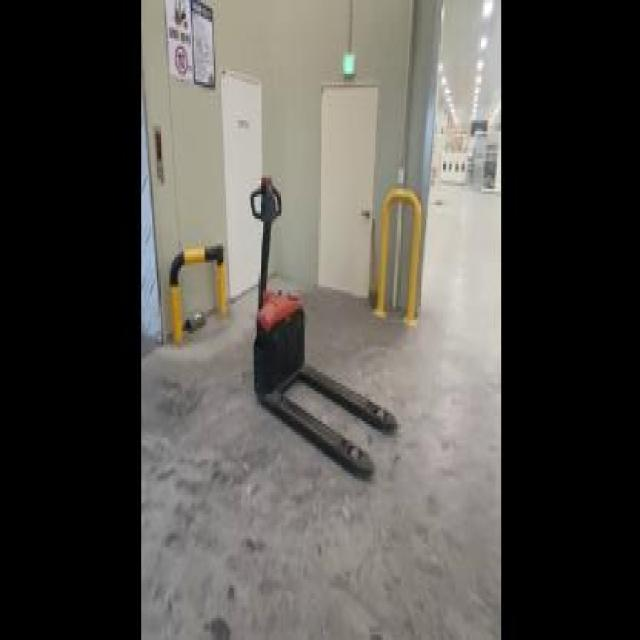robot: (235, 172, 400, 498)
